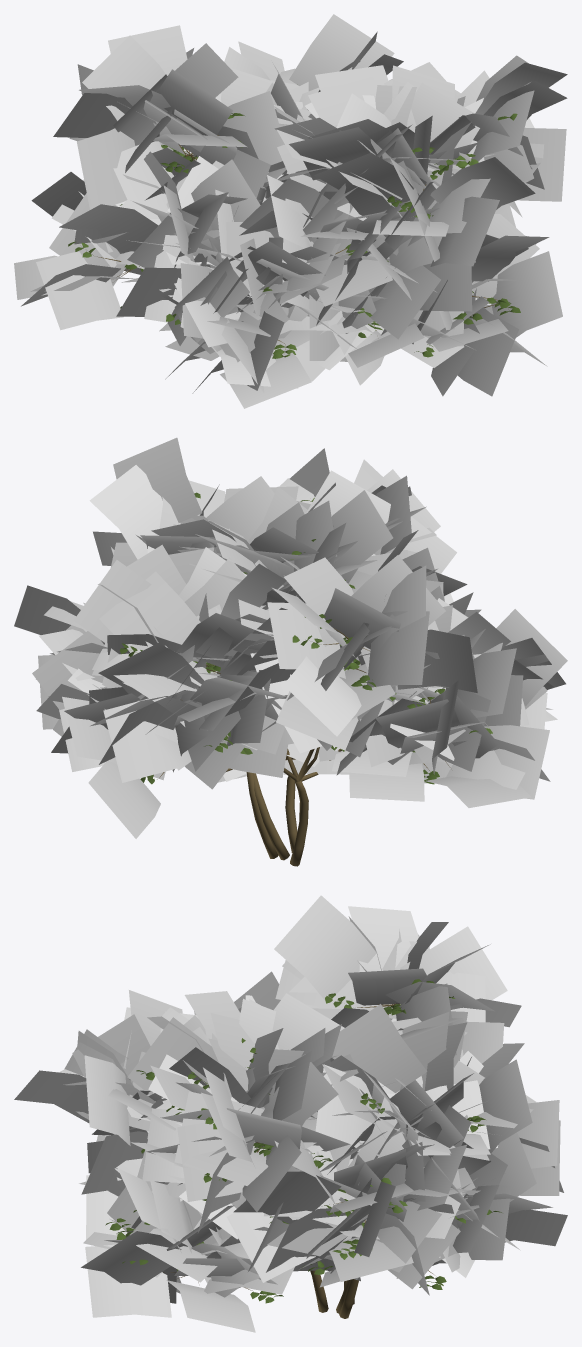
Rendered from Lentisque_Dense_LOD0.fbx.
3 views of the same model, one above another, from view 1: azimuth 30°, elevation 25°; view 2: azimuth 150°, elevation 25°; view 3: azimuth 270°, elevation 25° (orthographic). The views are drawn at different scales.
Parts seen in each view (by area): view 1: Lentisque_Dense; view 2: Lentisque_Dense; view 3: Lentisque_Dense.
Part boxes in pixels (x1,y1,x2,y2): Lentisque_Dense: [14, 14, 567, 408]; Lentisque_Dense: [14, 437, 567, 866]; Lentisque_Dense: [14, 895, 567, 1332].
Bounding box in the file's own units: 366 × 239 × 336.
